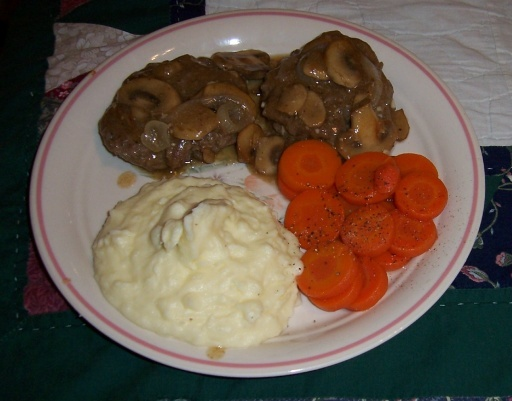background: (73, 18, 358, 219)
